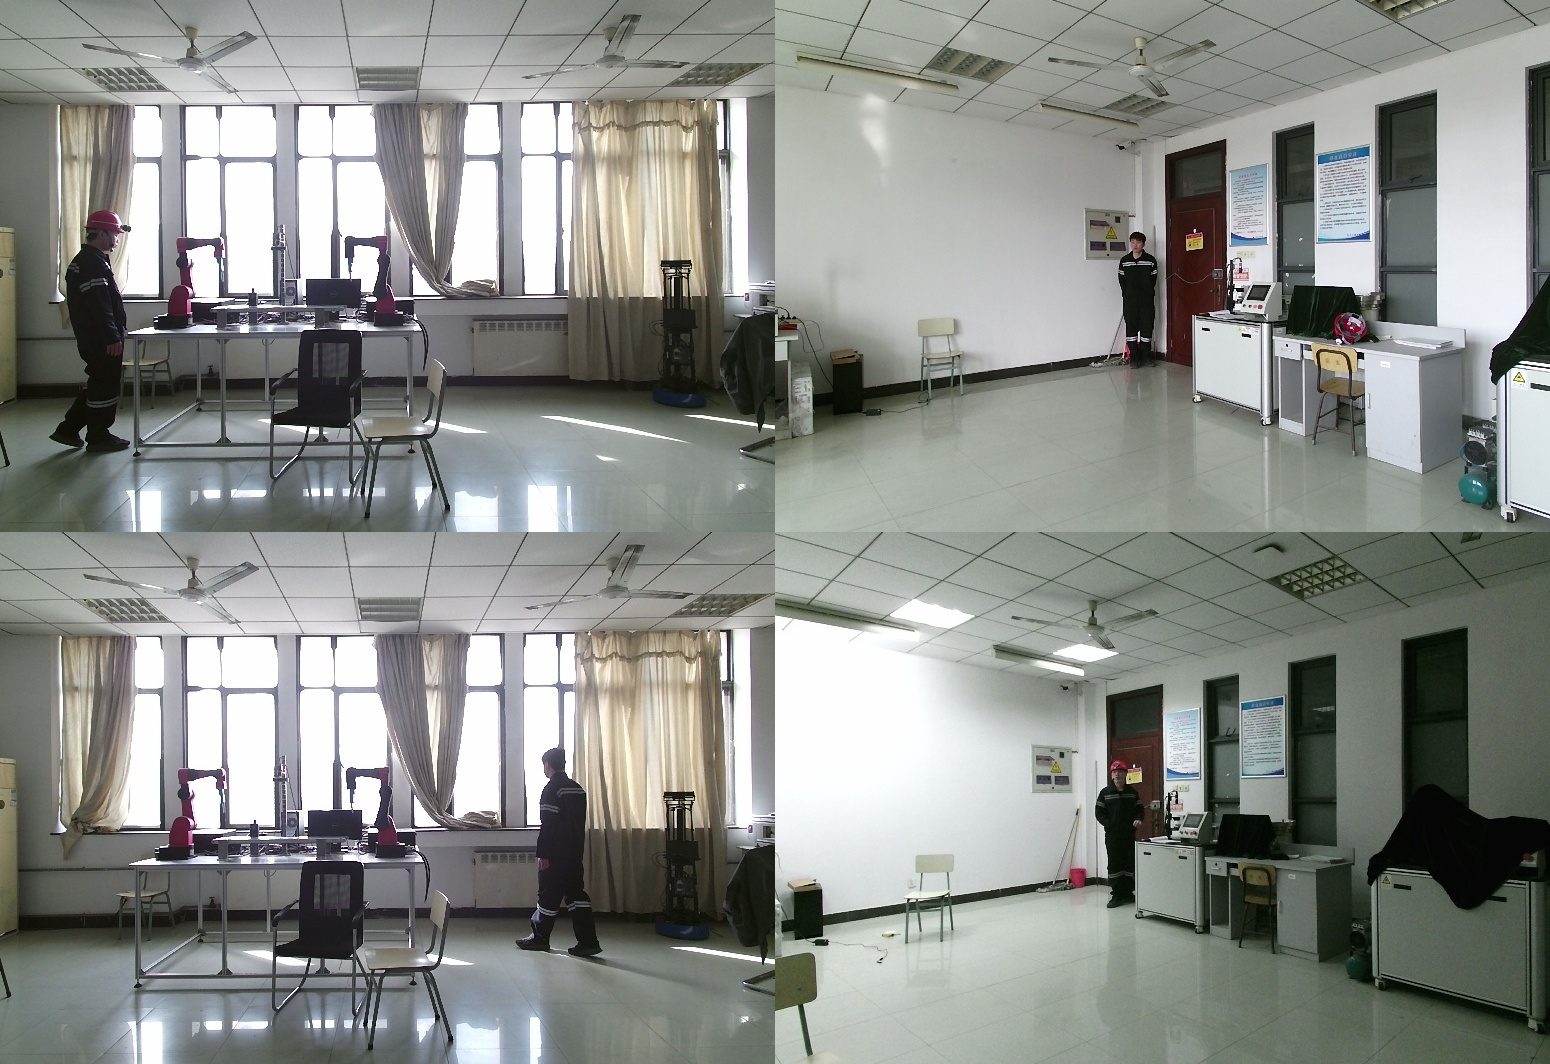person: (49, 211, 138, 456), (520, 749, 608, 965), (1095, 762, 1152, 908), (1116, 232, 1161, 370)
